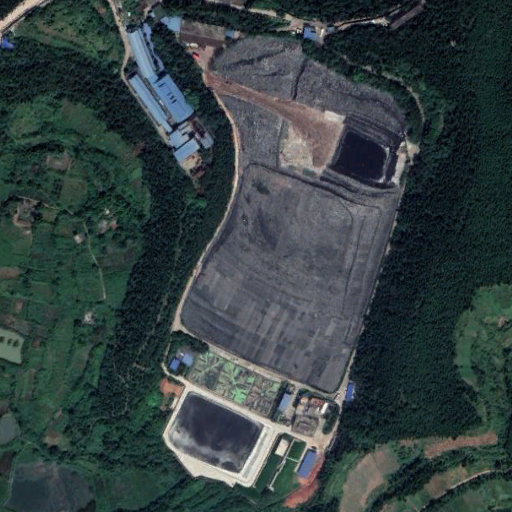lf: (180, 33, 405, 396)
